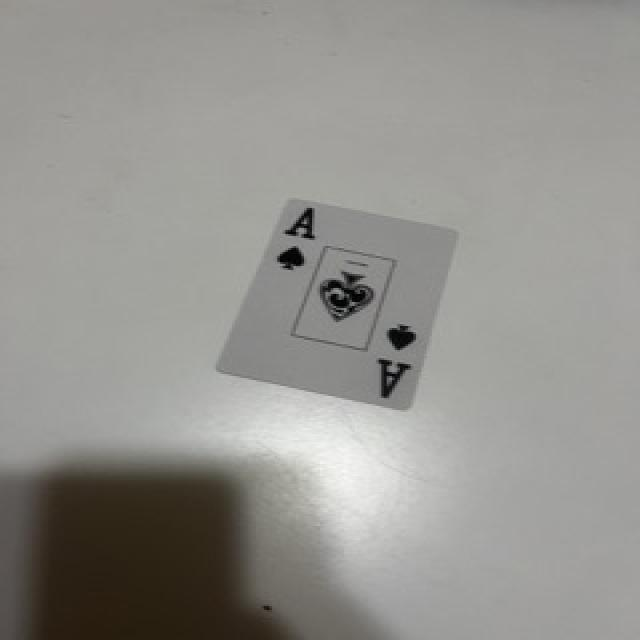Ace of spades: (217, 200, 455, 409)
